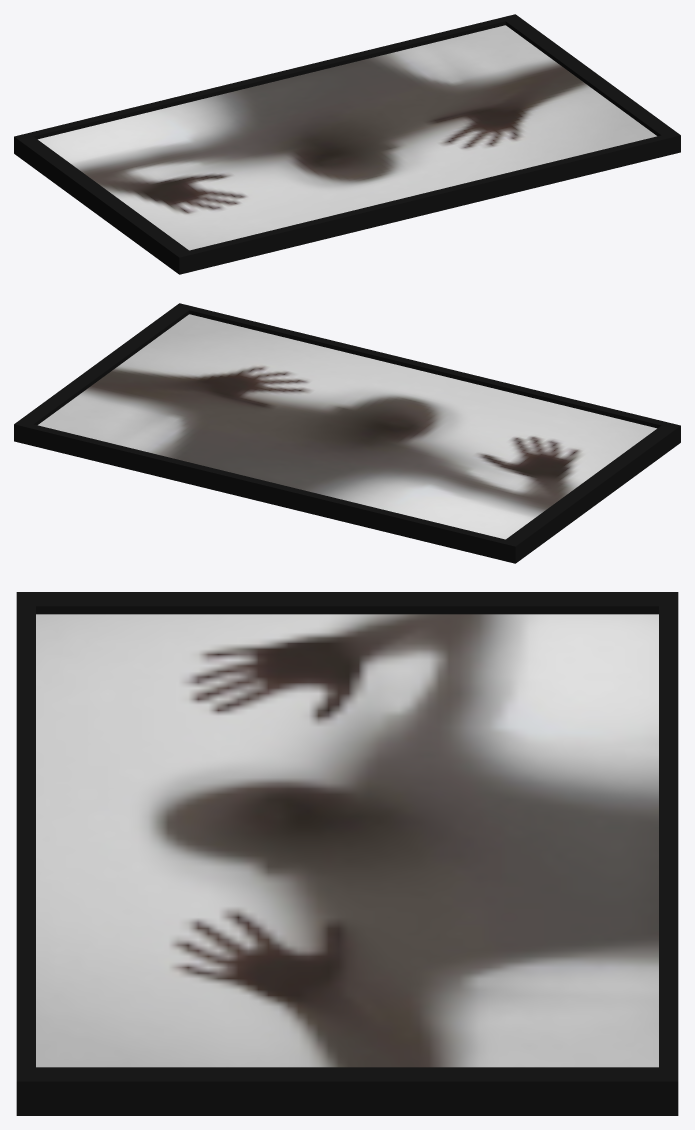
File: KorkuTablo2.fbx
3 renders of one model, top to bottom at view 1: azimuth 30°, elevation 25°; view 2: azimuth 150°, elevation 25°; view 3: azimuth 270°, elevation 25°, orthographic. The views are drawn at different scales.
Parts seen in each view (by area): view 1: Cube.008; view 2: Cube.008; view 3: Cube.008.
Part boxes in pixels (x1=…): Cube.008: x1=14, y1=14, x2=680, y2=274; Cube.008: x1=14, y1=303, x2=680, y2=563; Cube.008: x1=16, y1=592, x2=678, y2=1115.
Bounding box in the file's own units: 70 × 2.28 × 40.
Materials: 2 (1 with a texture image).
